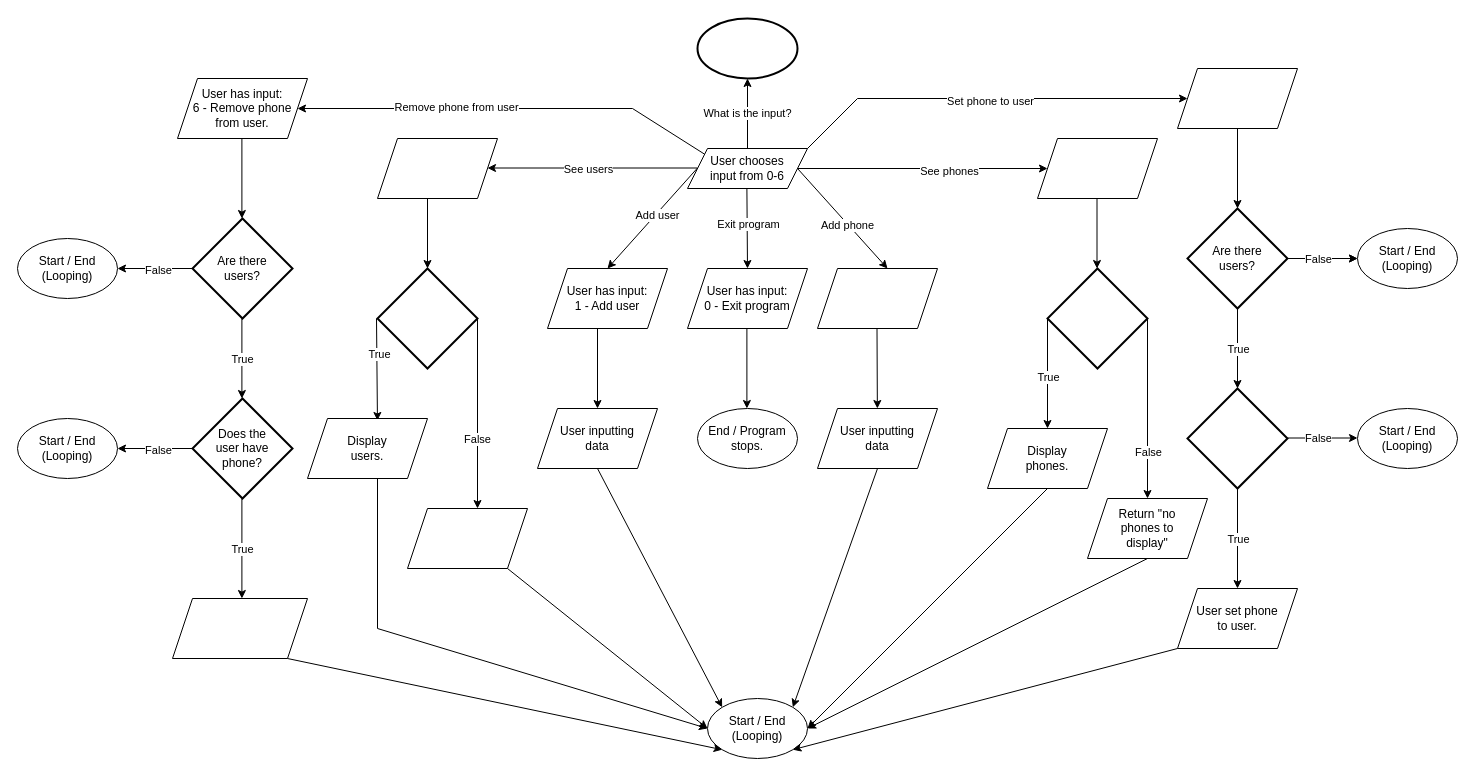
This 1475x776 diagram has some shape labels left out. The shapes that lost their labels are listed below. From the top down, each one's centre as x and y in pixels, then its label:
pixel 747 48: Start (Menu)
pixel 1237 98: User has input: 5 - Set phone to user.
pixel 437 168: User has input: 3 - See users.
pixel 1097 168: User has input: 4 - See phones.
pixel 427 318: Are there existing users?
pixel 877 298: User has input: 2 - Add phone
pixel 1097 318: Are there existing phones?
pixel 1237 438: Are there phones?
pixel 467 538: Return "no users to display"
pixel 240 628: Phone is removed from user
